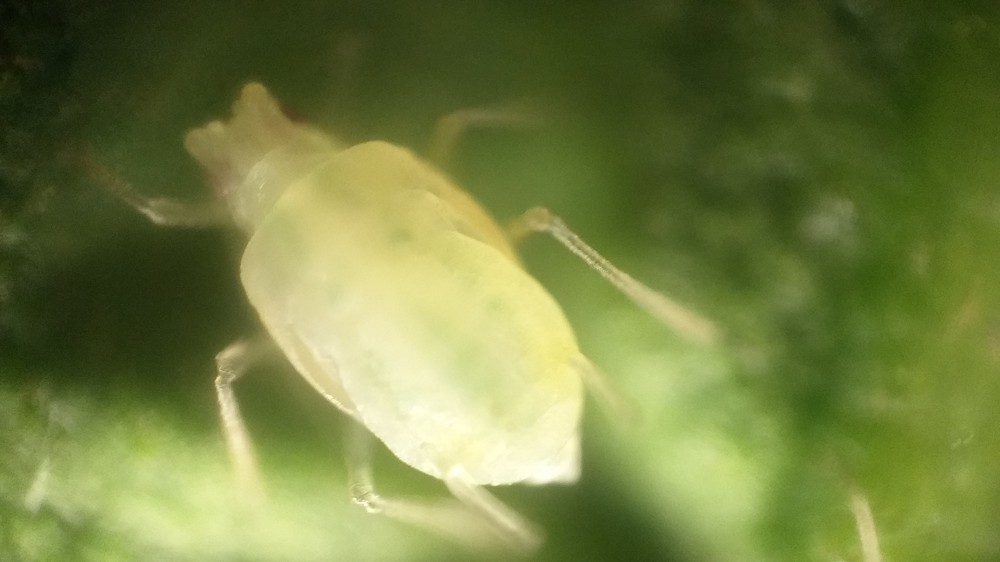Pulgon: (80, 46, 778, 558)
